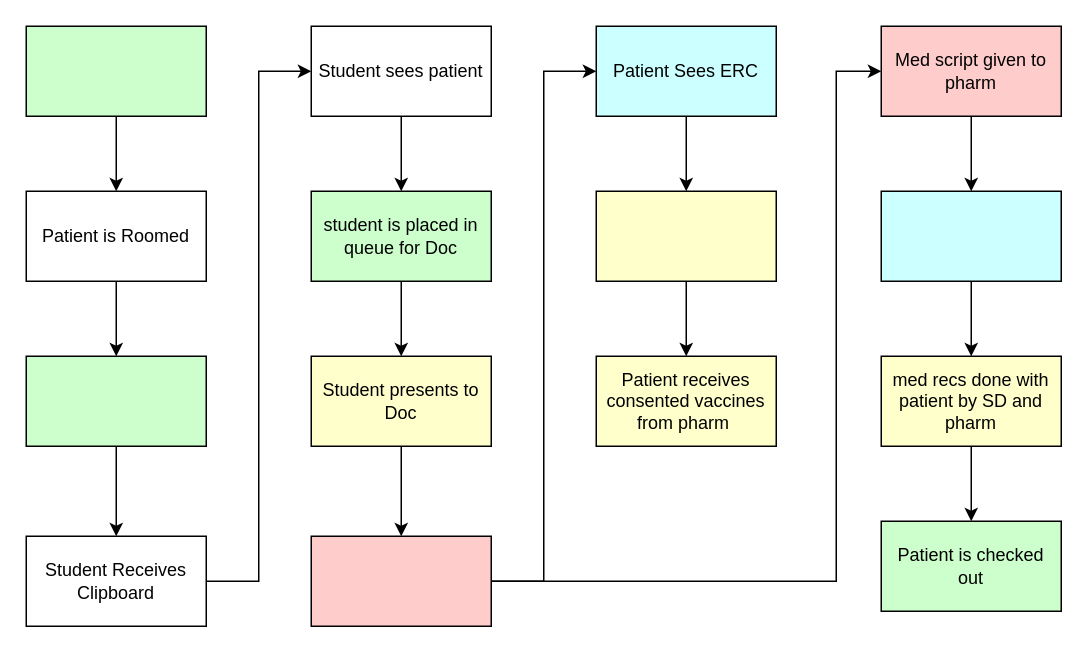
Some shapes in this 1088 by 653 pixel diagram are drawn without their labels. The box of each missing label's shape, as (x1, y1, x2, y2) in pixels:
Doc sees patient: (310, 535, 491, 626)
Float Receives Clipboard: (25, 355, 206, 446)
Patient Checks In: (25, 25, 206, 116)
Patient discusses vaccines with VV: (595, 190, 776, 281)
pharm scripts filled: (880, 190, 1061, 281)
